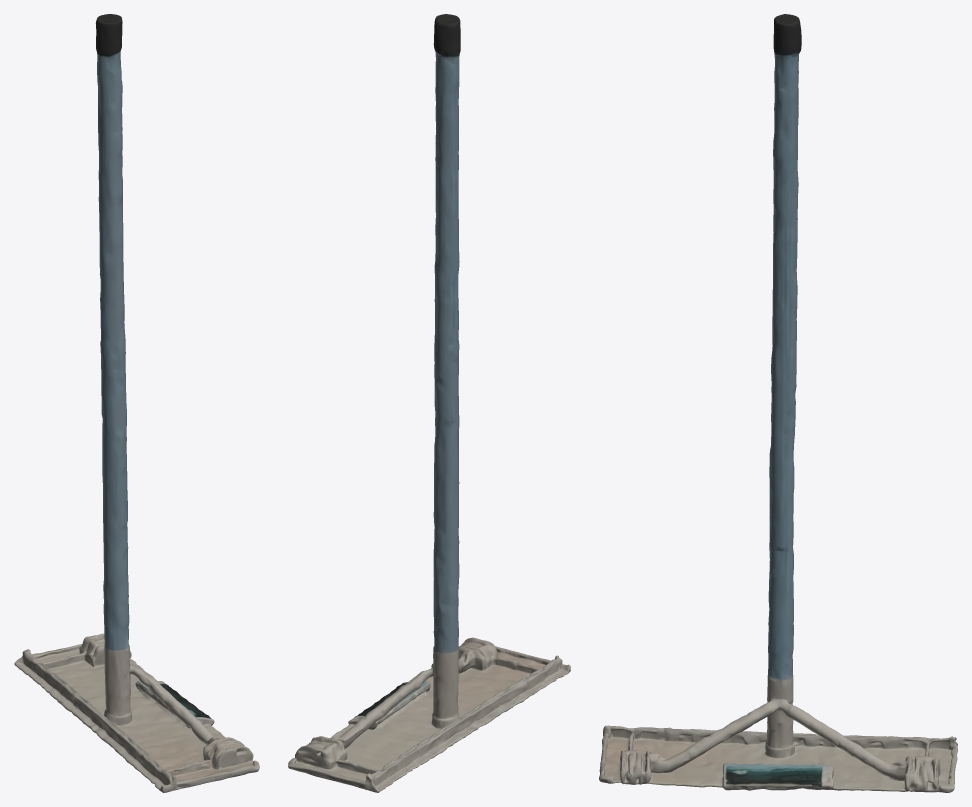
The model's file is spazzle.glb.
3 renders of one model, left to right at view 1: azimuth 30°, elevation 25°; view 2: azimuth 150°, elevation 25°; view 3: azimuth 270°, elevation 25°, orthographic. The views are drawn at different scales.
Visible parts, largest first — view 1: tripo_node_6f96cad5-5524-4a23-8de0-0310239edb13; view 2: tripo_node_6f96cad5-5524-4a23-8de0-0310239edb13; view 3: tripo_node_6f96cad5-5524-4a23-8de0-0310239edb13.
Part boxes in pixels (x1,y1,x2,y2): tripo_node_6f96cad5-5524-4a23-8de0-0310239edb13: (14, 14, 259, 792); tripo_node_6f96cad5-5524-4a23-8de0-0310239edb13: (288, 14, 570, 792); tripo_node_6f96cad5-5524-4a23-8de0-0310239edb13: (599, 14, 957, 792).
Bounding box in the file's own units: 0.1713 × 1 × 0.4429.
Materials: 1 (1 with a texture image).
